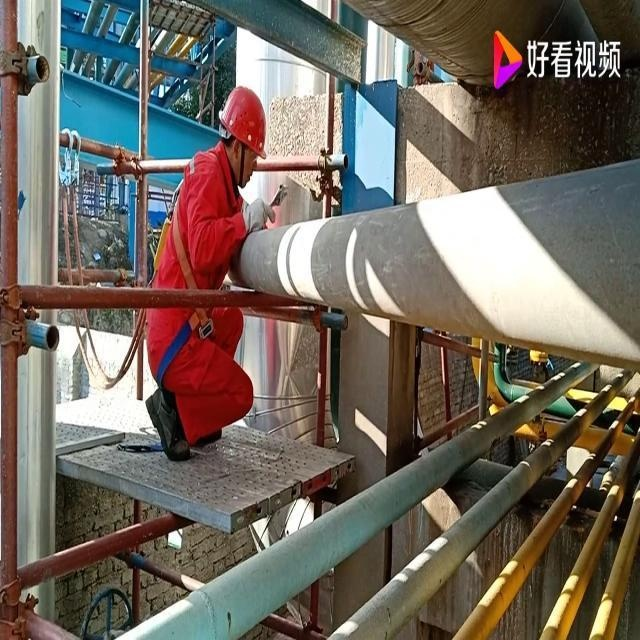Arnes_seguridad: (150, 140, 228, 391)
